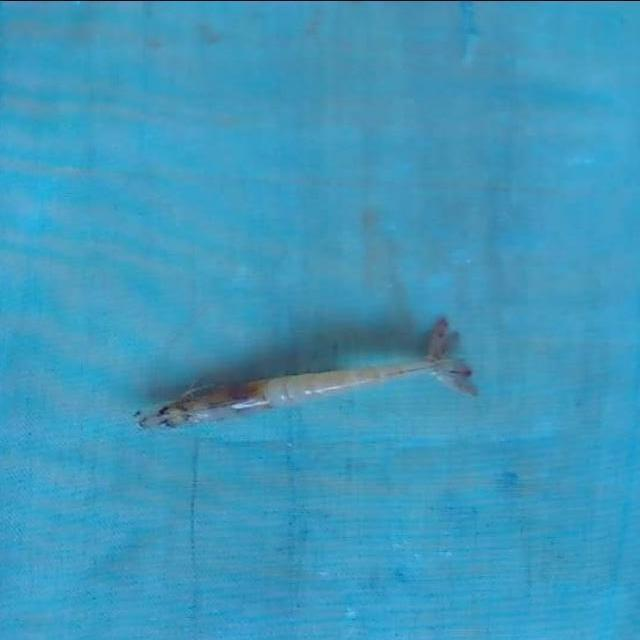shrimp: (136, 318, 476, 428)
